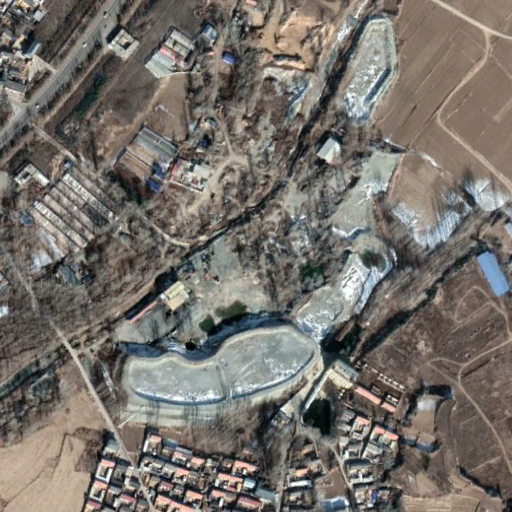tp: (124, 322, 325, 414), (293, 225, 392, 344), (338, 15, 400, 125)
